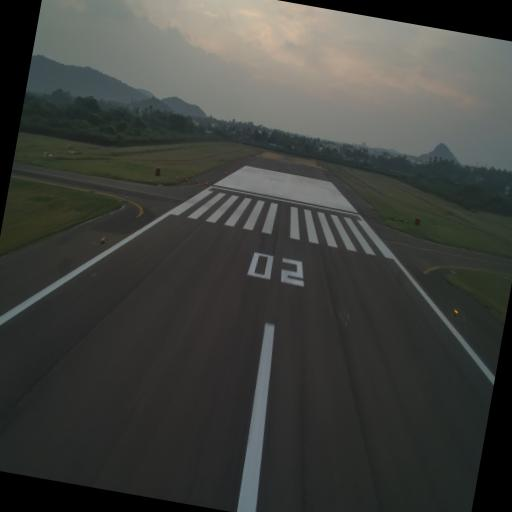on: (451, 305, 460, 318), (99, 233, 107, 246)
